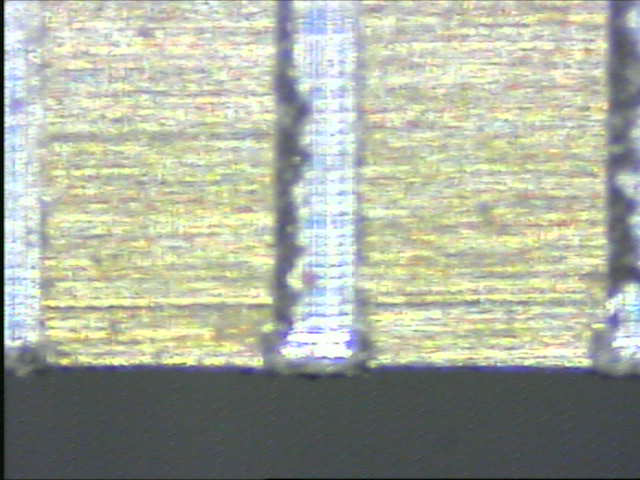line: (271, 1, 368, 376)
